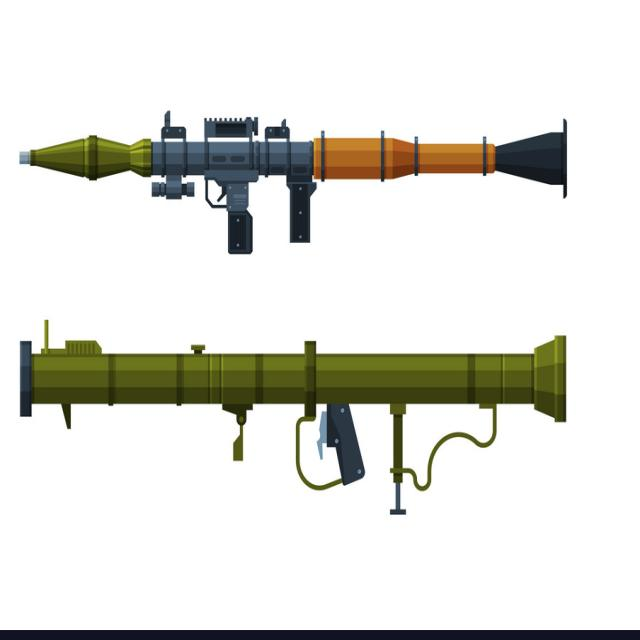Weapon: (20, 336, 565, 483), (20, 112, 566, 254)
